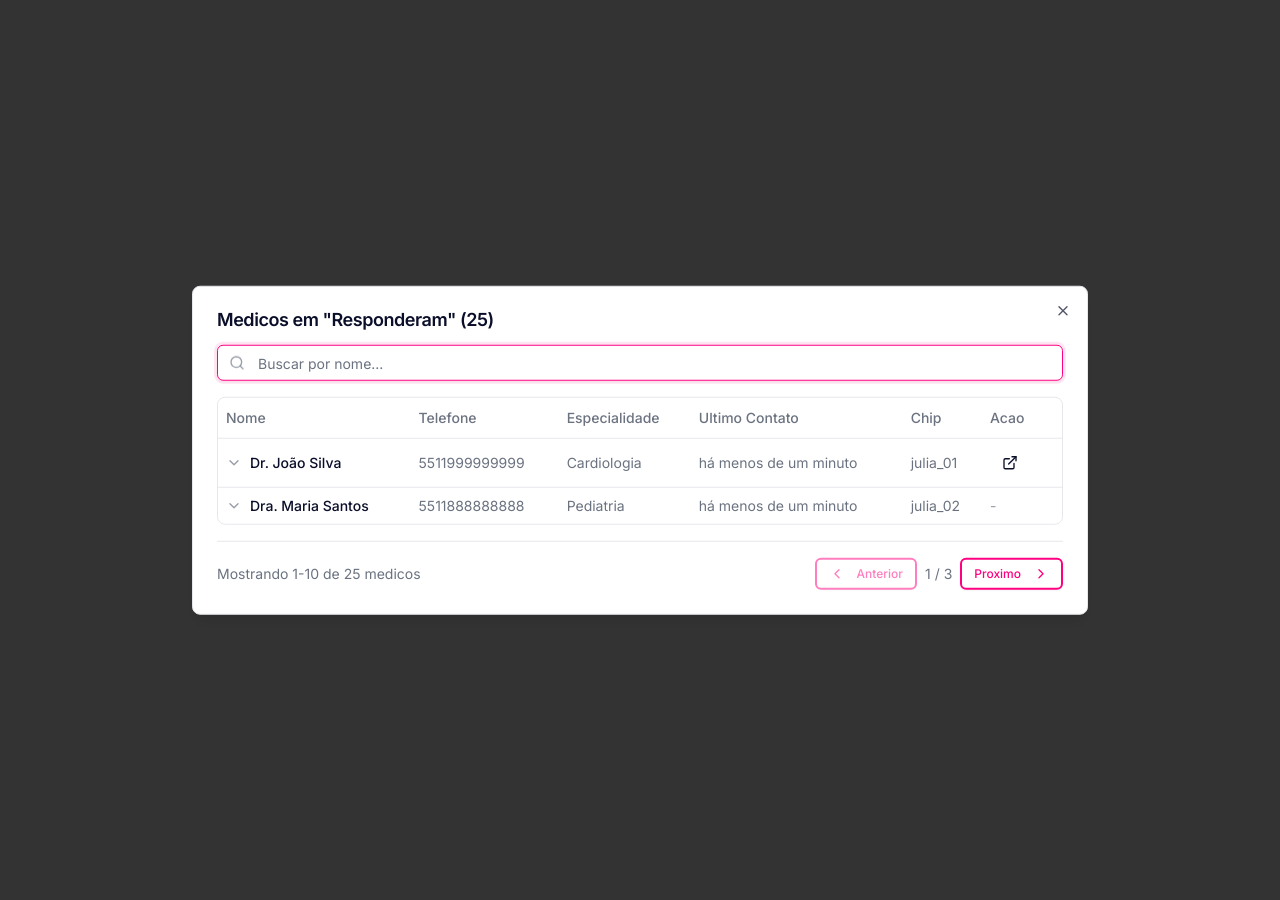
FunnelDrilldownModal › Expansão de mensagens › mostra loading enquanto carrega mensagens
The width and height of the screenshot is (1280, 900).
Click the text "Dr. João Silva": click(284, 462) left=226, top=453, right=341, bottom=470
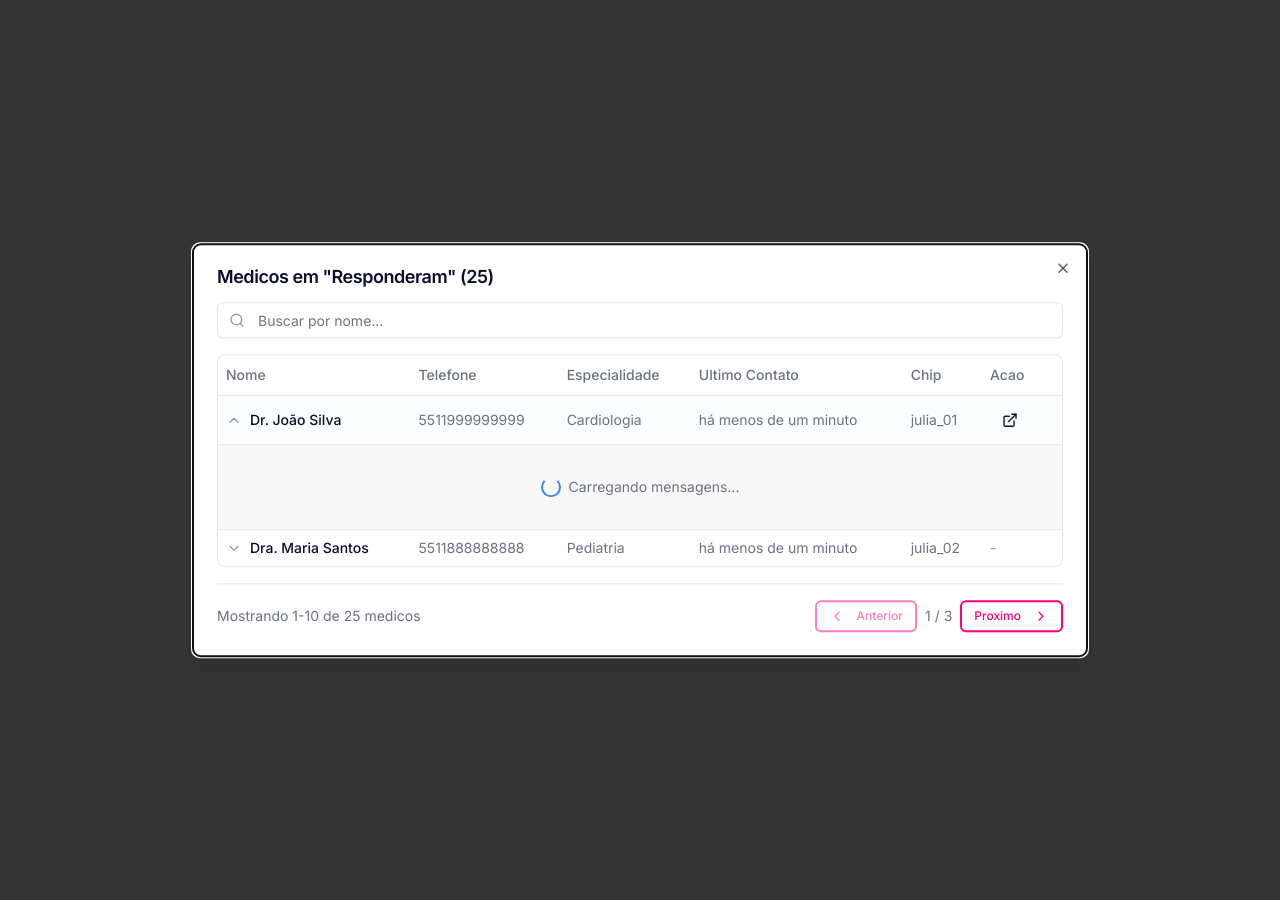
Expected: the text "Carregando mensagens..." is shown, left=569, top=477, right=740, bottom=497
